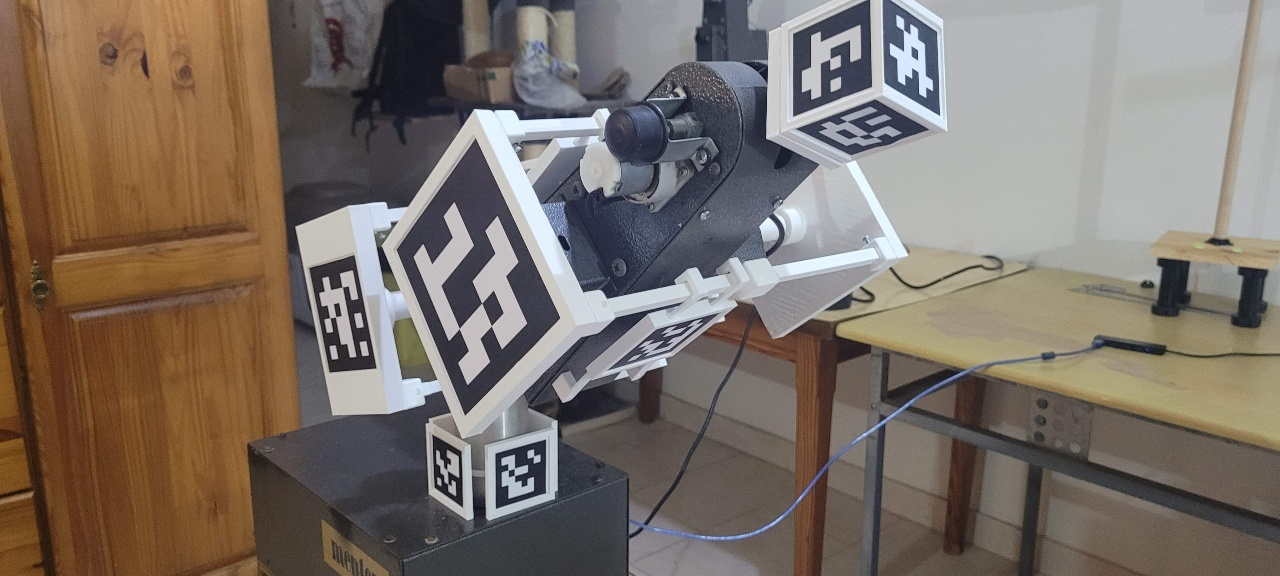Robot: (293, 2, 950, 523)
